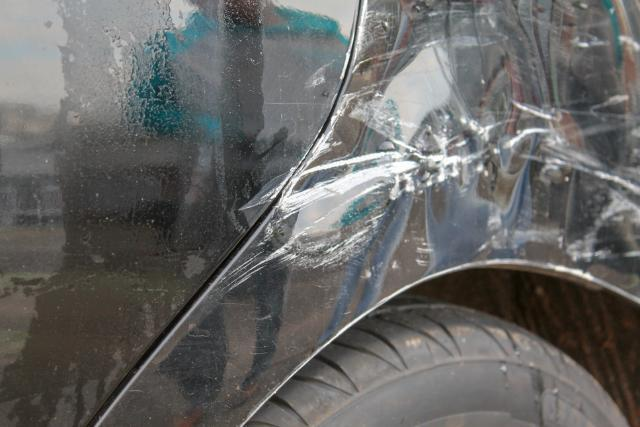Fender: (246, 0, 640, 364)
